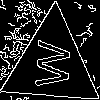W: (27, 39, 71, 89)
